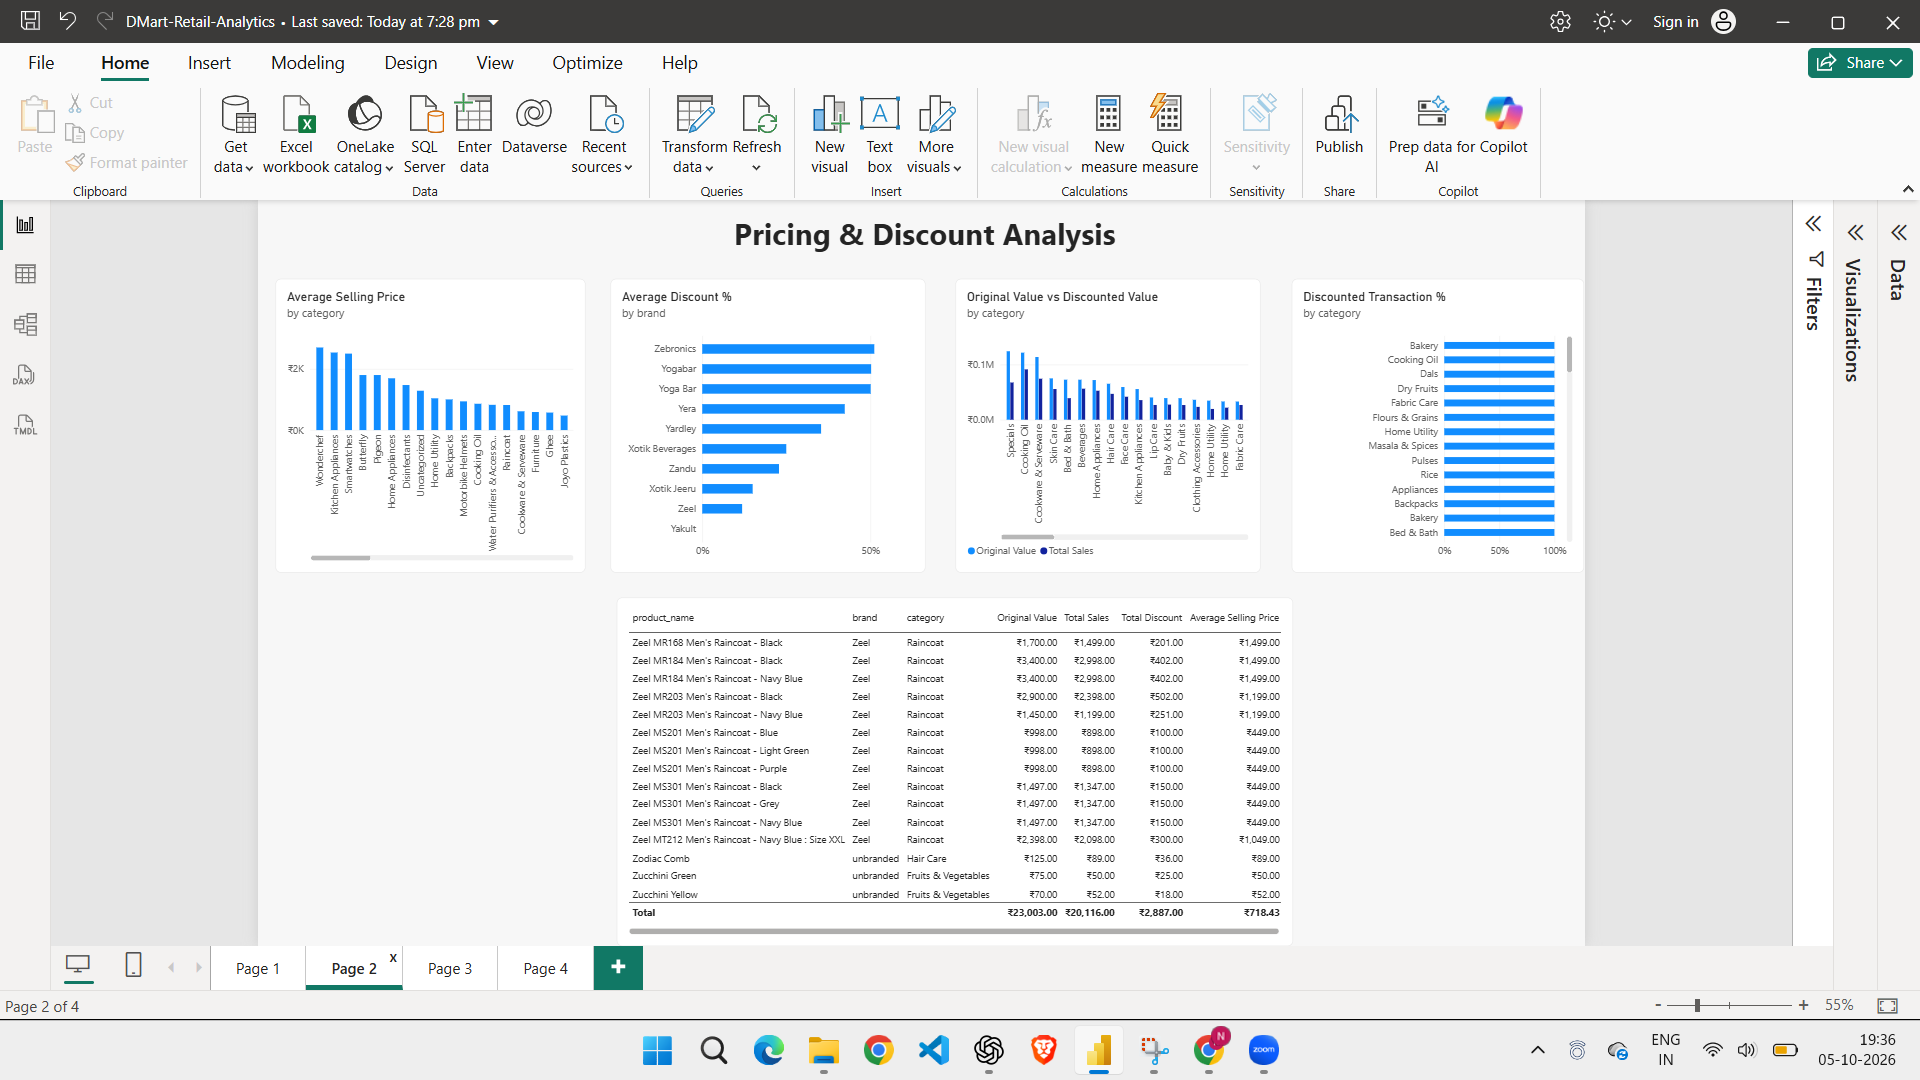

Layout of this report page (visuals, bound fields, positions):
{"tool":"powerbi","page":{"name":"Page 2","canvas":[1920,1080],"ordinal":1},"visuals":[{"type":"textbox","box":[10.9,0,1909.2,88.7],"z":0},{"type":"clusteredColumnChart","fields":{"Category":["Sales_transactions.category"],"Y":["Sales_transactions.Average Selling Price"]},"box":[25.3,114,448.8,425.3],"z":1000},{"type":"clusteredBarChart","fields":{"Category":["Sales_transactions.brand"],"Y":["Sales_transactions.Average Discount %"]},"box":[510.3,114,456,425.3],"z":2000},{"type":"clusteredColumnChart","title":"Original Value vs Discounted Value","fields":{"Category":["Sales_transactions.category"],"Y":["Sales_transactions.Original Value","Sales_transactions.Total Sales"]},"box":[1009.8,114,441.6,425.3],"z":3000},{"type":"clusteredBarChart","fields":{"Category":["Sales_transactions.category"],"Y":["Sales_transactions.Discounted Transactions"]},"box":[1496.6,114,423.5,425.3],"z":4000},{"type":"tableEx","fields":{"Values":["Sales_transactions.product_name","Sales_transactions.brand","Sales_transactions.category","Sales_transactions.Original Value","Sales_transactions.Total Sales","Sales_transactions.Total Discount","Sales_transactions.Average Selling Price"]},"box":[519.4,575.5,979,504.9],"z":5000}]}

Visuals, with their boxes on the page's 1920x1080 design canvas (x1, y1, x2, y2). These are canvas units, not pixel positions in the 1920x1080 screenshot, which may show the page scaled, cropped or inside an application window:
textbox: <bbox>11, 0, 1920, 89</bbox>
clusteredColumnChart - Sales_transactions.category x Sales_transactions.Average Selling Price: <bbox>25, 114, 474, 539</bbox>
clusteredBarChart - Sales_transactions.brand x Sales_transactions.Average Discount %: <bbox>510, 114, 966, 539</bbox>
"Original Value vs Discounted Value" clusteredColumnChart: <bbox>1010, 114, 1451, 539</bbox>
clusteredBarChart - Sales_transactions.category x Sales_transactions.Discounted Transactions: <bbox>1497, 114, 1920, 539</bbox>
tableEx - Sales_transactions.product_name x Sales_transactions.brand: <bbox>519, 576, 1498, 1080</bbox>
